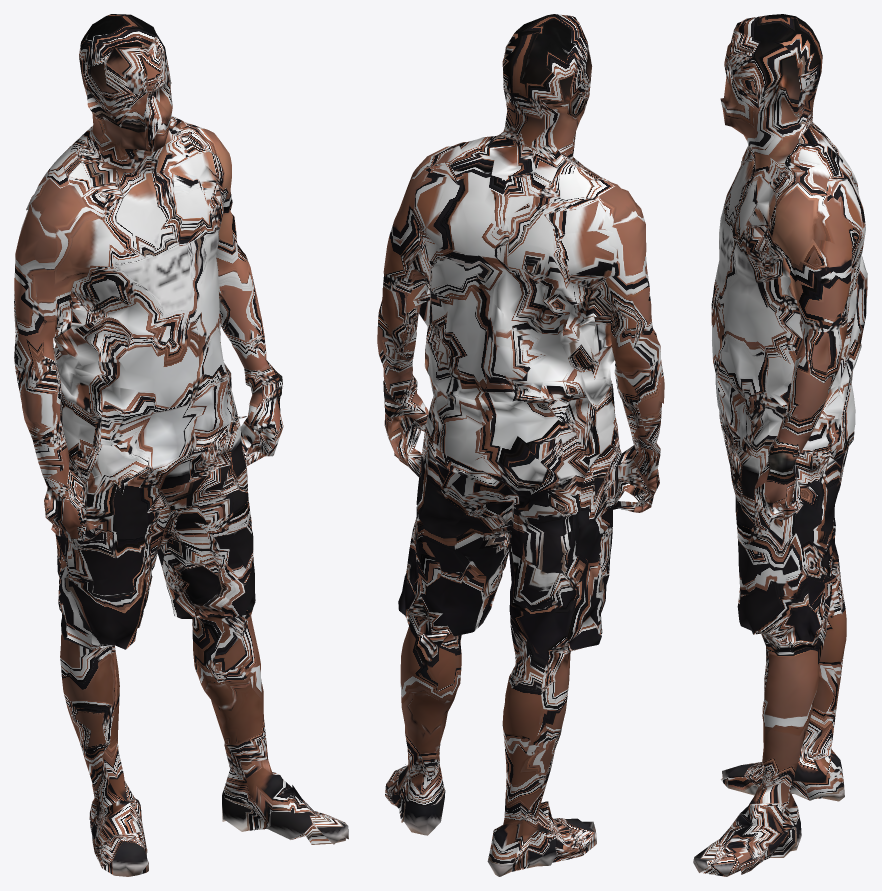
Rendered from casual_confidence.glb.
The picture shows the model from 3 angles, left to right: view 1: azimuth 30°, elevation 25°; view 2: azimuth 150°, elevation 25°; view 3: azimuth 270°, elevation 25°; orthographic projection. The views are drawn at different scales.
Parts seen in each view (by area): view 1: body; view 2: body; view 3: body.
Part boxes in pixels (left/top/right/bottom): body: left=14, top=14, right=348, bottom=876; body: left=377, top=14, right=664, bottom=876; body: left=693, top=14, right=867, bottom=876.
Bounding box in the file's own units: 0.663 × 1.8 × 0.3669.
1 material, 1 textured.
